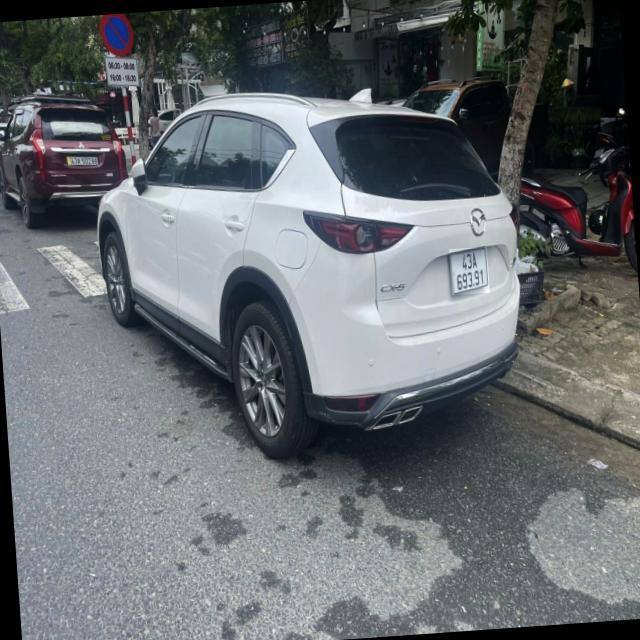car: (95, 88, 537, 453), (1, 89, 132, 227)
plate: (443, 245, 496, 297), (63, 146, 105, 173)
